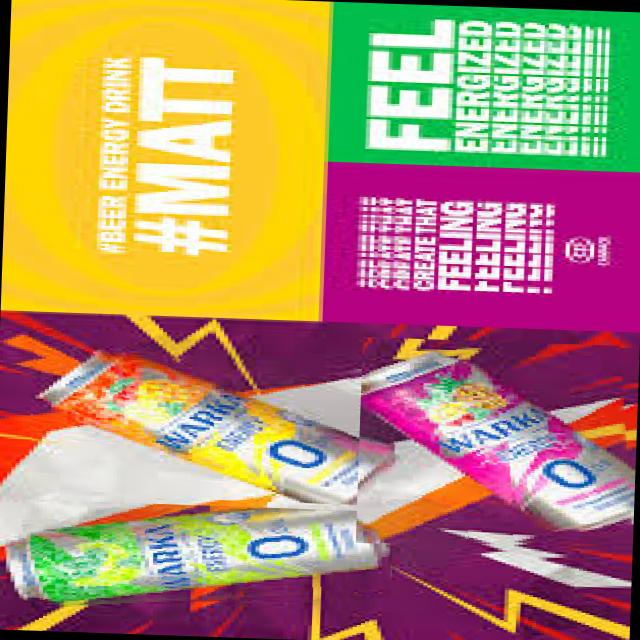Cans: (356, 336, 640, 552), (6, 348, 394, 504), (1, 498, 394, 618)
